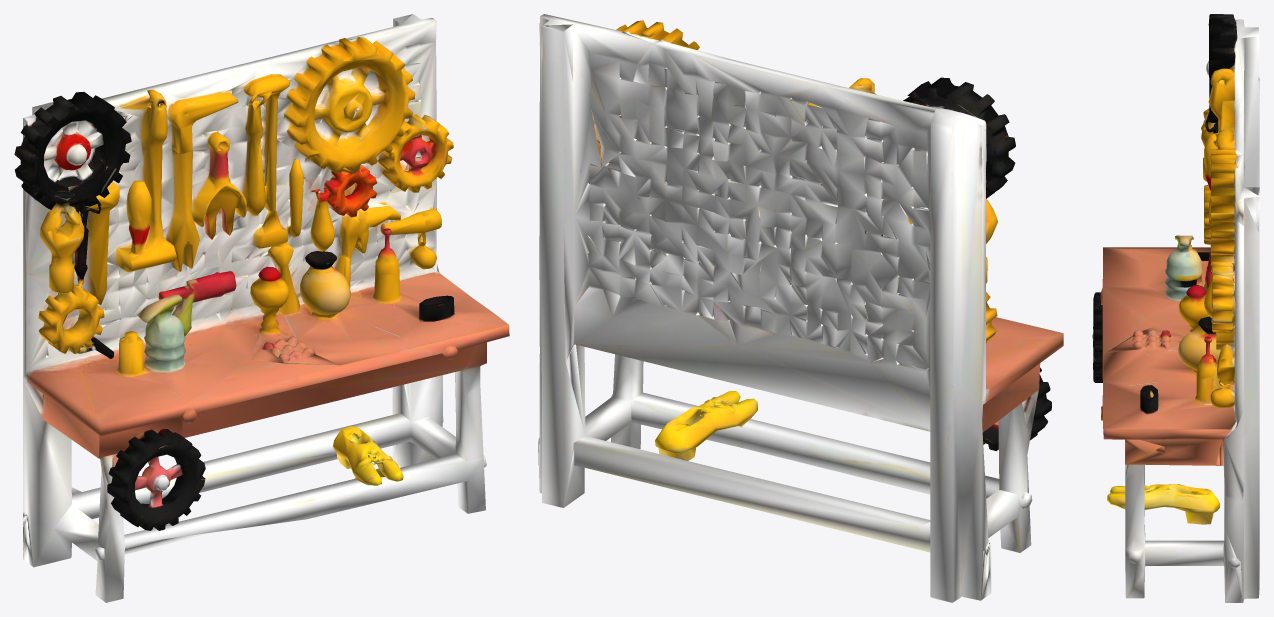
Rendered from clay-maker-yard.glb.
3 views of the same model, side by side, from view 1: azimuth 30°, elevation 25°; view 2: azimuth 150°, elevation 25°; view 3: azimuth 270°, elevation 25° (orthographic). The views are drawn at different scales.
Bounding box in the file's own units: 1.86 × 1.91 × 0.6926.
1 material, 1 textured.
